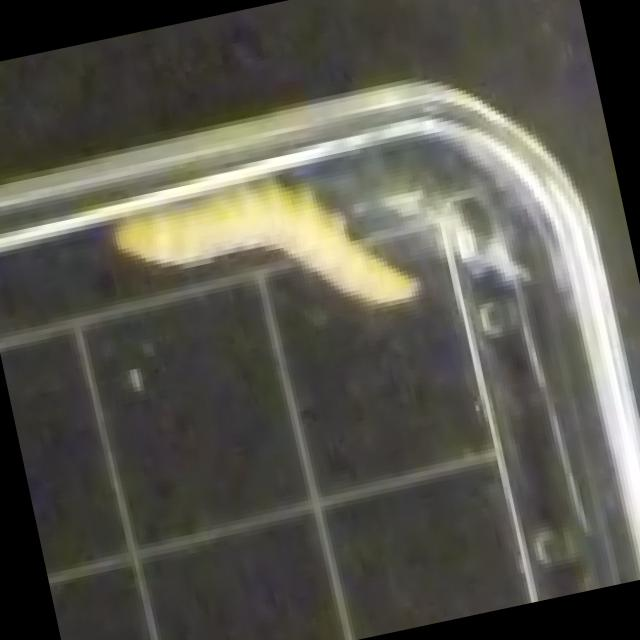larva: (104, 160, 426, 364)
